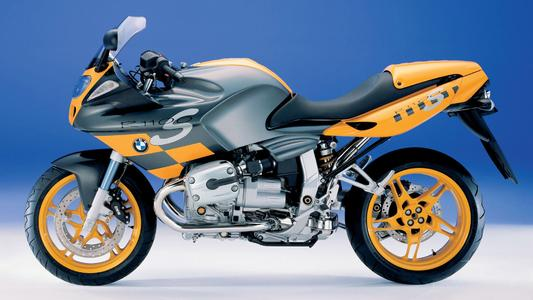motor: (35, 25, 501, 280)
